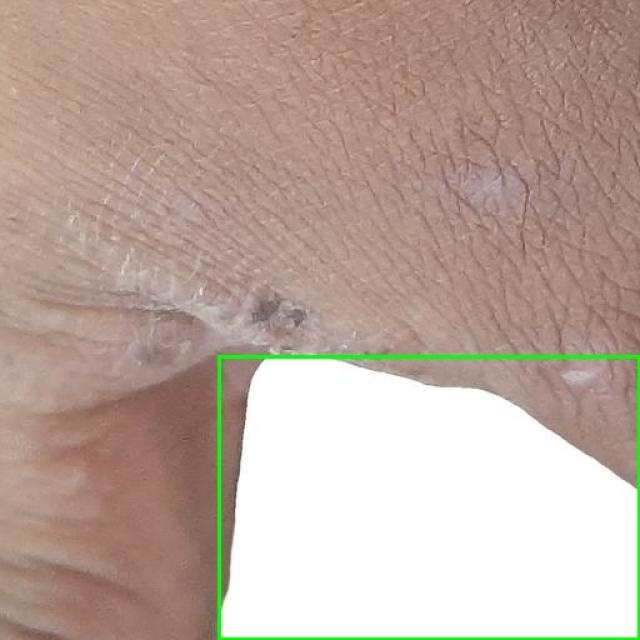Scabies: (219, 356, 639, 639)
